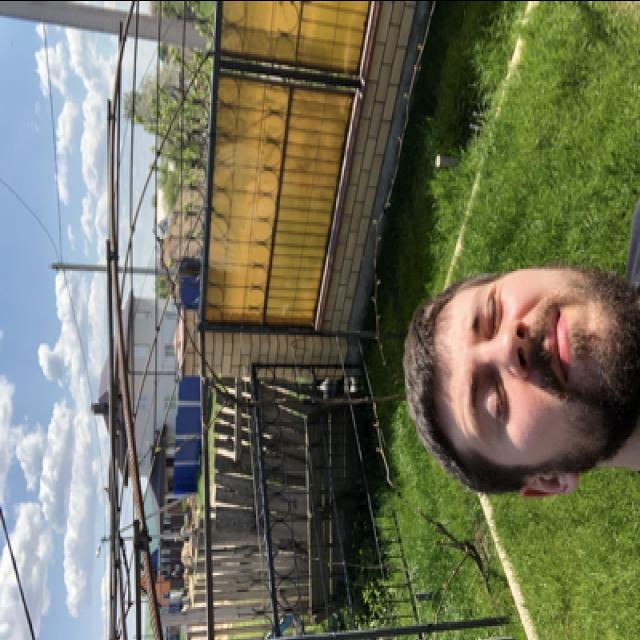without_mask: (452, 268, 638, 453)
